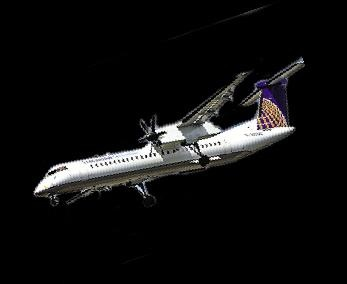airplane: (29, 56, 310, 212)
